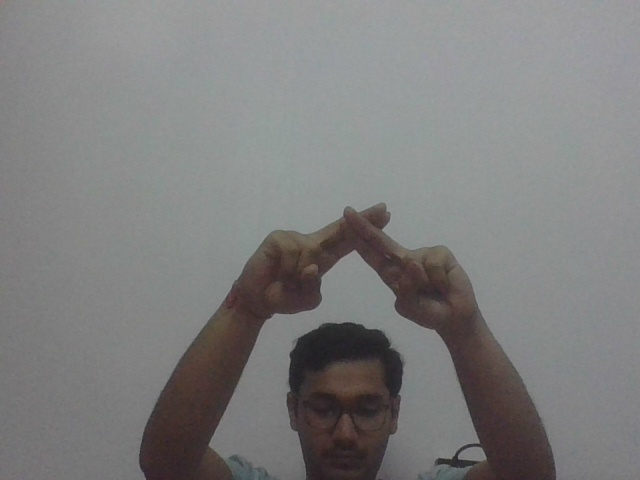F: (241, 195, 483, 324)
